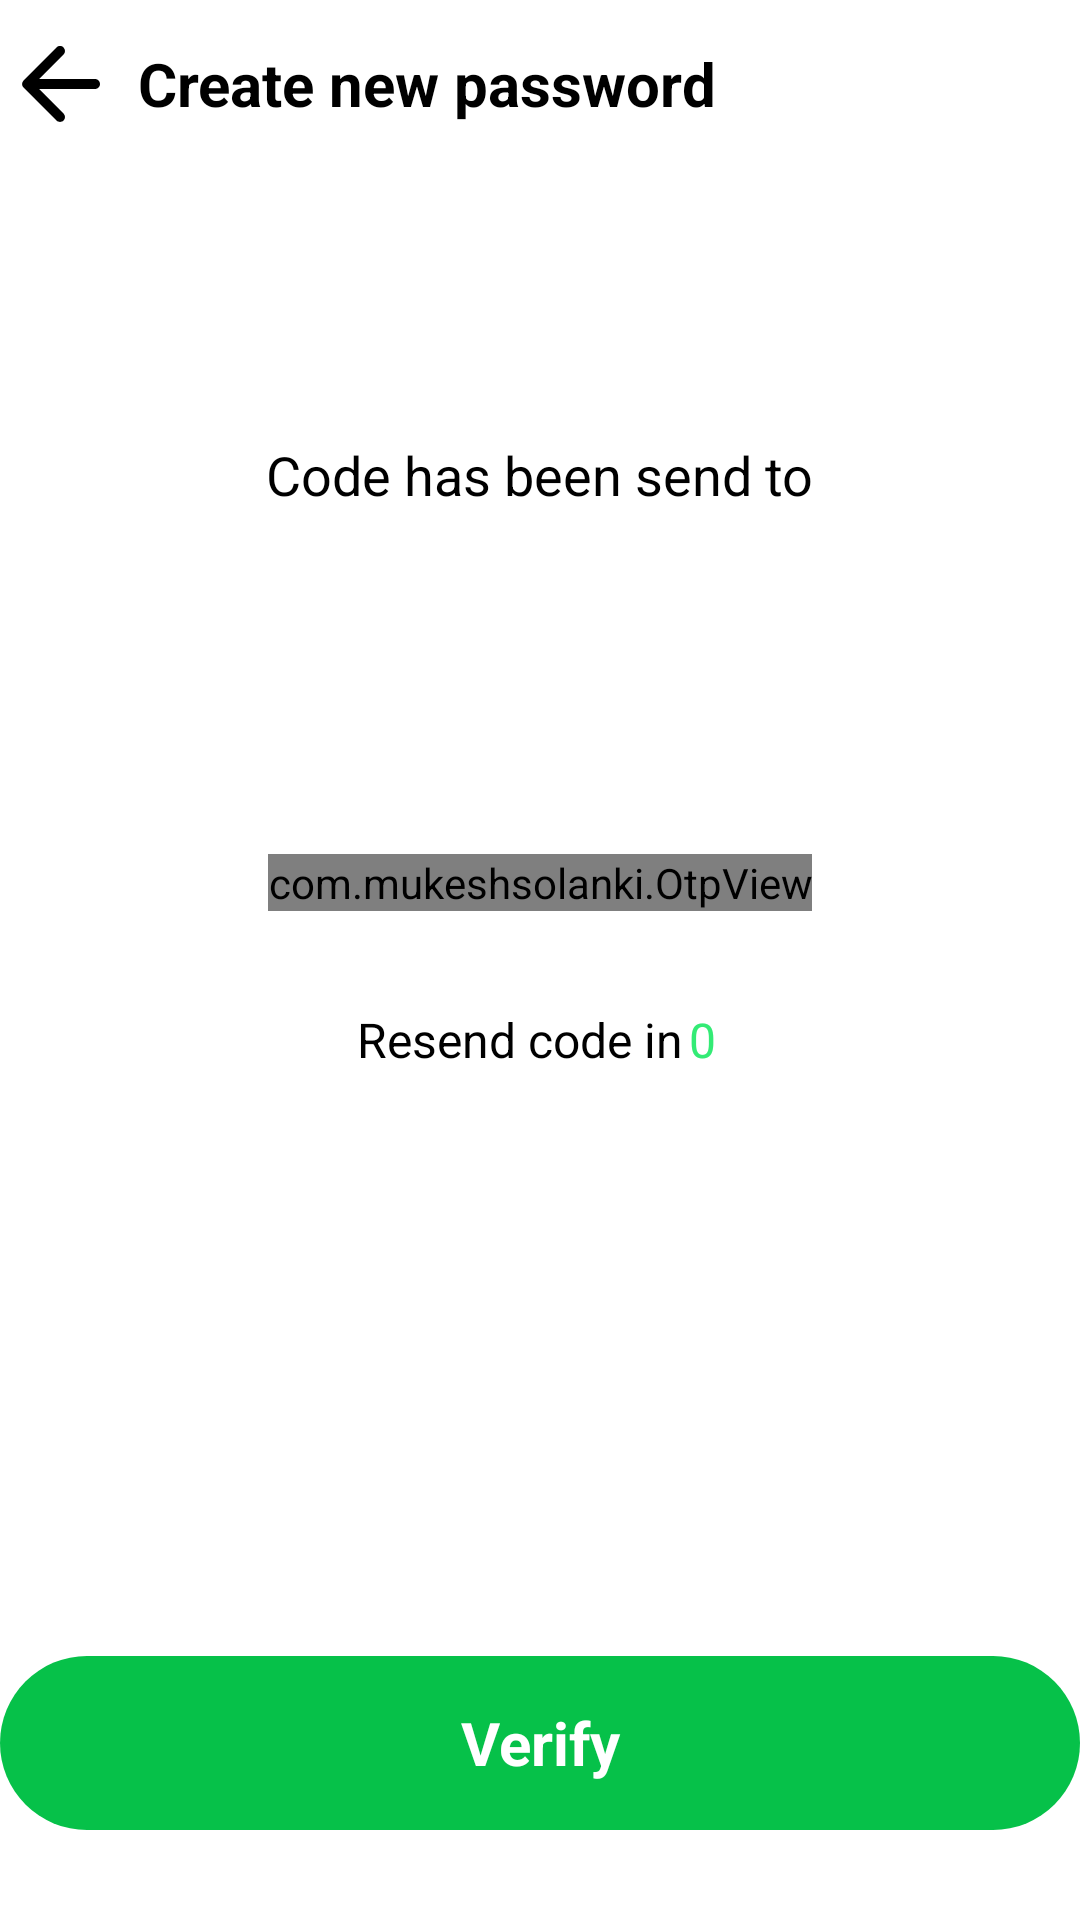

Where icons sit on this 1080 × 1920 app screen, as (x1, y1, x2, y2):
arrow back: (22, 46, 100, 122)
